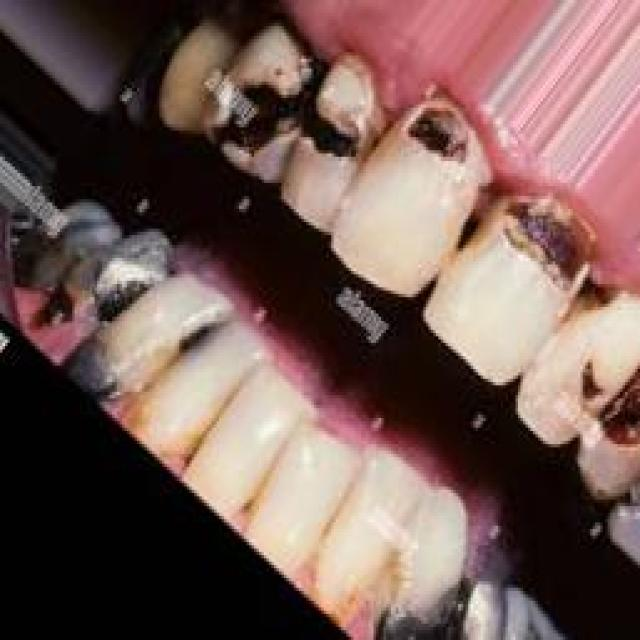caries: (468, 176, 606, 320), (207, 22, 308, 182), (293, 51, 388, 188), (381, 79, 493, 195), (162, 299, 236, 388), (593, 342, 640, 476), (557, 332, 614, 421)
